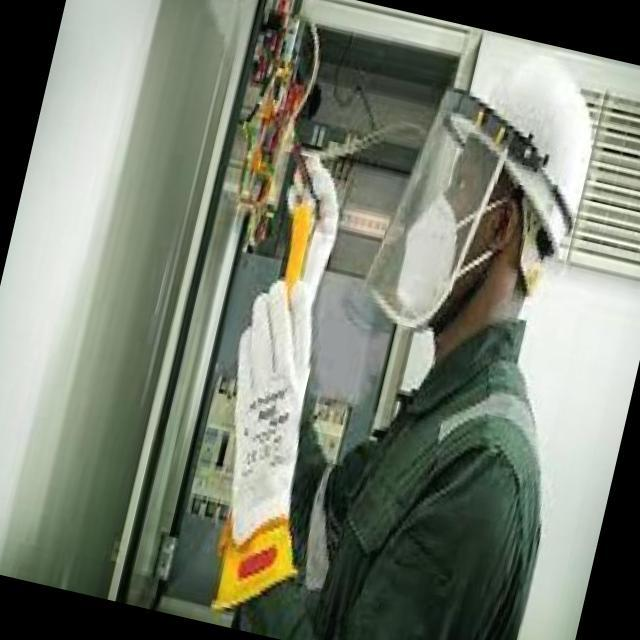Gloves: (225, 279, 328, 542), (270, 145, 353, 328)
Helmet: (401, 41, 596, 243)
Person: (207, 27, 603, 640)
no-vest: (232, 310, 563, 640)
